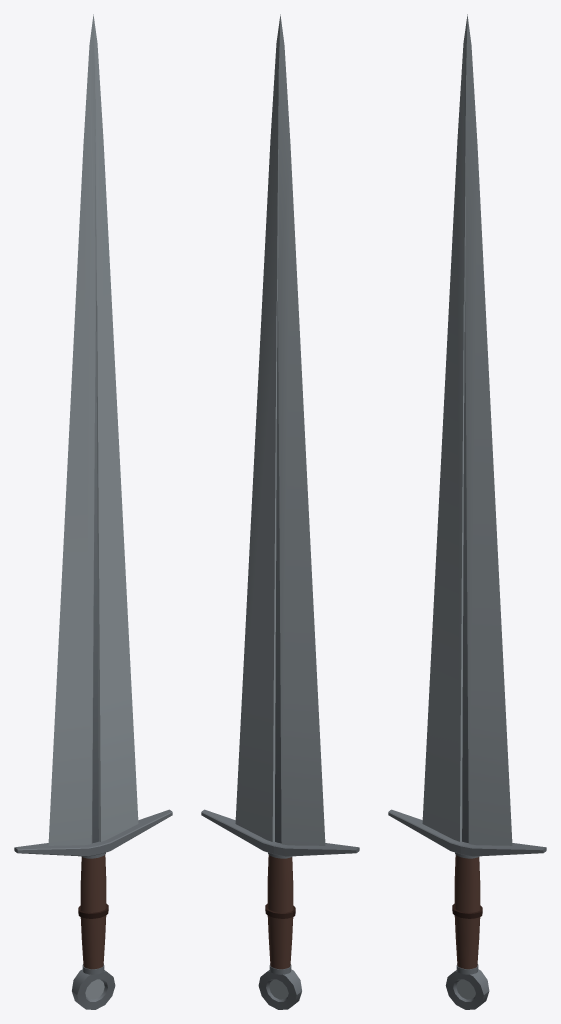
Rendered from SM_Sword06_Dagesse_1.fbx.
The picture shows the model from 3 angles, left to right: view 1: azimuth 30°, elevation 25°; view 2: azimuth 150°, elevation 25°; view 3: azimuth 330°, elevation 25°; orthographic projection.
Visible parts, largest first — view 1: Cube.048, Cylinder.036, Cube.049, Cylinder.037; view 2: Cube.048, Cylinder.036, Cube.049, Cylinder.037; view 3: Cube.048, Cylinder.036, Cube.049, Cylinder.037.
Part boxes in pixels (x1,y1,x2,y2): Cube.048: [48, 14, 138, 845]; Cylinder.036: [78, 852, 108, 974]; Cube.049: [14, 809, 172, 856]; Cylinder.037: [72, 969, 115, 1009]; Cube.048: [235, 14, 325, 845]; Cylinder.036: [265, 852, 295, 974]; Cube.049: [201, 809, 359, 856]; Cylinder.037: [258, 969, 301, 1009]; Cube.048: [422, 14, 512, 845]; Cylinder.036: [452, 852, 482, 974]; Cube.049: [388, 809, 546, 856]; Cylinder.037: [445, 969, 489, 1009].
Bounding box in the file's own units: 0.154 × 0.9449 × 0.0231.
